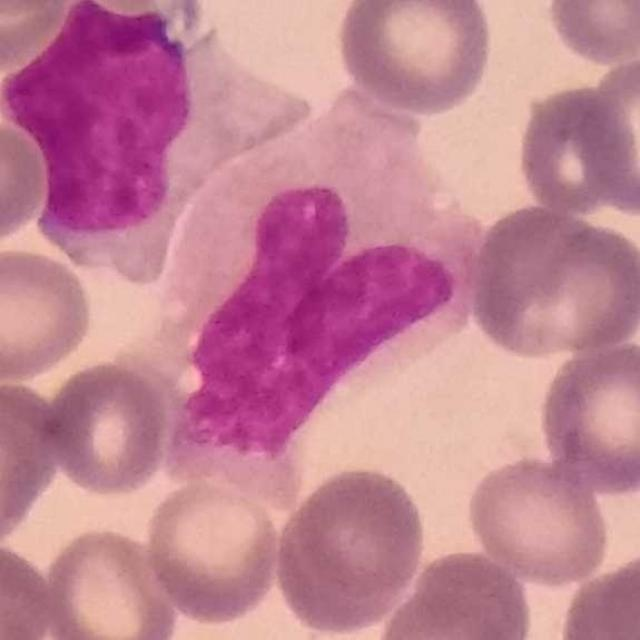mono: (163, 81, 493, 469)
